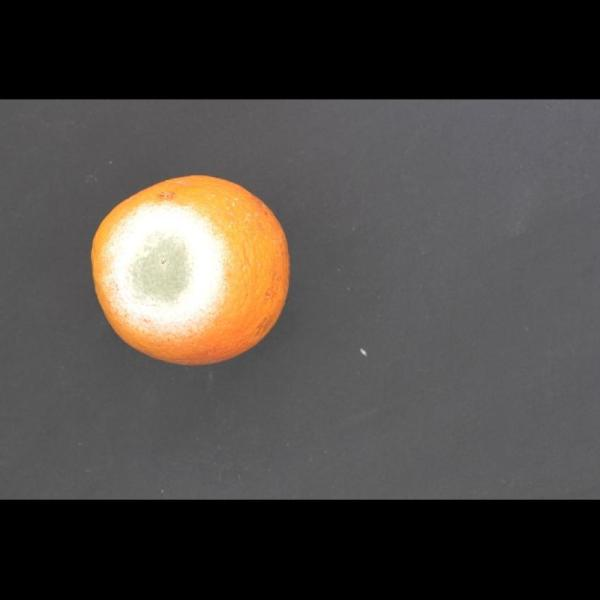Moho verde: (68, 150, 304, 390)
